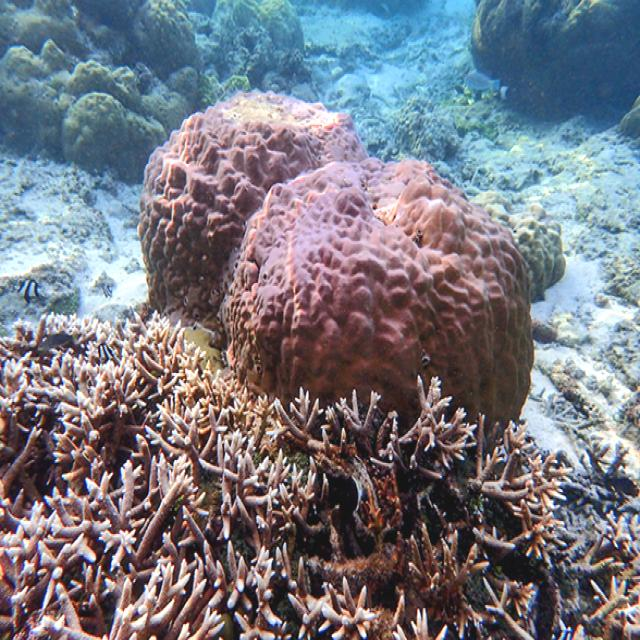Coral: (0, 307, 640, 640), (222, 156, 534, 457), (138, 89, 370, 354), (470, 189, 566, 304)
